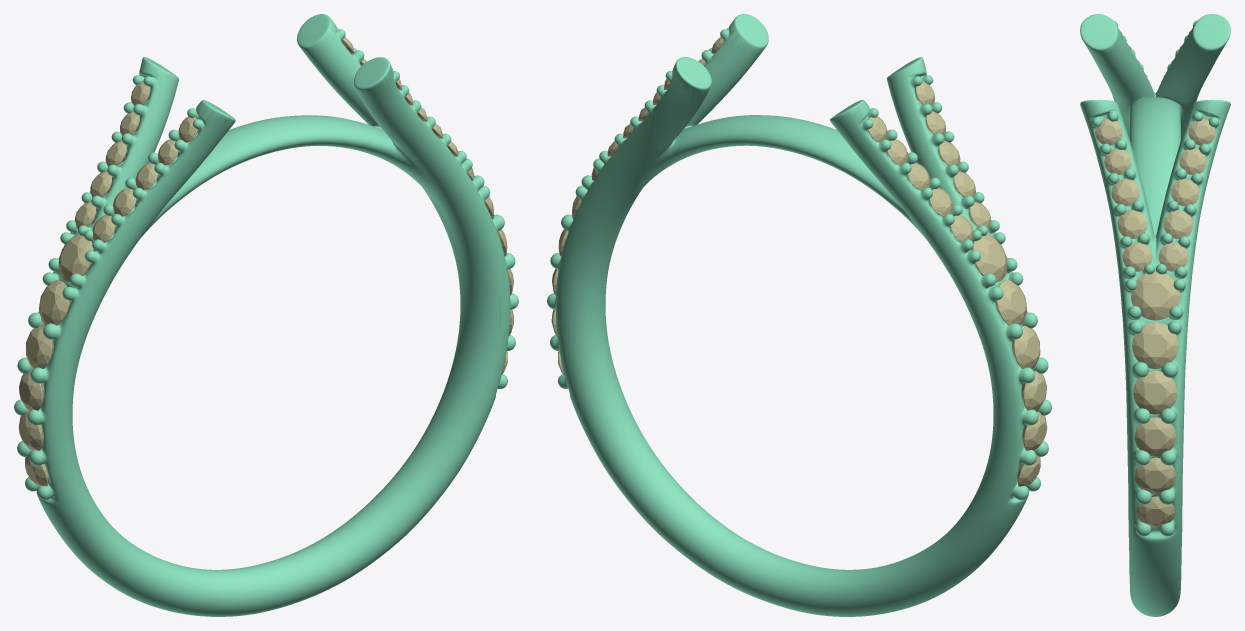
The picture shows the model from 3 angles, left to right: view 1: azimuth 30°, elevation 25°; view 2: azimuth 150°, elevation 25°; view 3: azimuth 270°, elevation 25°; orthographic projection. The views are drawn at different scales.
Visible parts, largest first — view 1: Metal02, Diamond_Gem.026, Diamond_Gem.025, Diamond_Gem.024, Diamond_Gem.023; view 2: Metal02, Diamond_Gem.026, Diamond_Gem.025, Diamond_Gem.024, Diamond_Gem.023; view 3: Metal02, Diamond_Gem.005, Diamond_Gem.006, Diamond_Gem.007, Diamond_Gem.008, Diamond_Gem.009, Diamond_Gem.010, Diamond_Gem.003, Diamond_Gem.012, Diamond_Gem.004, Diamond_Gem.011, Diamond_Gem.002 (+5 smaller).
Part boxes in pixels (box(x1,y1,x2,y2)): Metal02: box(14, 14, 518, 616); Diamond_Gem.026: box(58, 234, 93, 282); Diamond_Gem.025: box(39, 280, 70, 325); Diamond_Gem.024: box(26, 325, 53, 368); Diamond_Gem.023: box(19, 370, 44, 411); Metal02: box(547, 14, 1051, 616); Diamond_Gem.026: box(972, 234, 1007, 282); Diamond_Gem.025: box(995, 280, 1026, 325); Diamond_Gem.024: box(1012, 325, 1040, 368); Diamond_Gem.023: box(1021, 370, 1046, 411); Metal02: box(1080, 14, 1230, 616); Diamond_Gem.005: box(1131, 271, 1179, 320); Diamond_Gem.006: box(1132, 322, 1178, 368); Diamond_Gem.007: box(1133, 370, 1177, 414); Diamond_Gem.008: box(1134, 417, 1176, 456); Diamond_Gem.009: box(1134, 457, 1176, 494); Diamond_Gem.010: box(1136, 496, 1175, 527); Diamond_Gem.003: box(1163, 210, 1193, 238); Diamond_Gem.012: box(1117, 210, 1147, 238); Diamond_Gem.004: box(1158, 242, 1188, 271); Diamond_Gem.011: box(1122, 242, 1152, 271); Diamond_Gem.002: box(1171, 178, 1199, 206).
Bounding box in the file's own units: 21.25 × 22.79 × 5.82.
